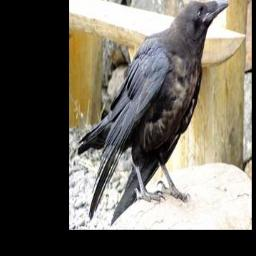Crow: (76, 0, 230, 223)
